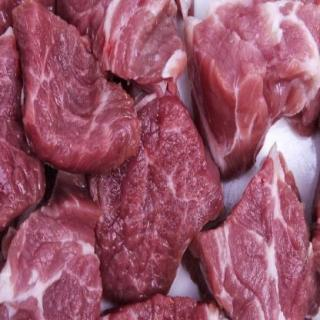Daging Sapi: (94, 93, 224, 301), (189, 1, 320, 173), (196, 145, 318, 320), (14, 3, 141, 167), (1, 190, 103, 320), (78, 1, 189, 81)
